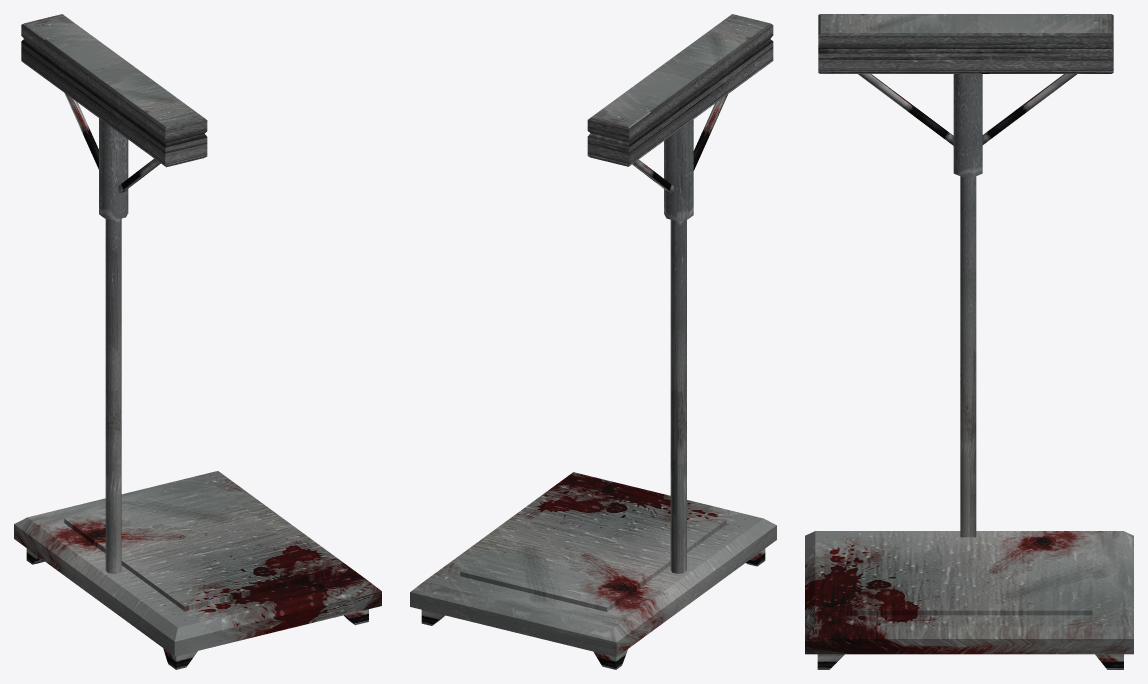
File: weighter.fbx
3 views of the same model, side by side, from view 1: azimuth 30°, elevation 25°; view 2: azimuth 150°, elevation 25°; view 3: azimuth 270°, elevation 25° (orthographic). The views are drawn at different scales.
Parts seen in each view (by area): view 1: balance; view 2: balance; view 3: balance.
Part boxes in pixels (x1,y1,x2,y2): balance: (14,14,381,669); balance: (410,14,776,669); balance: (805,14,1133,669).
Bounding box in the file's own units: 57.96 × 143 × 76.83.
